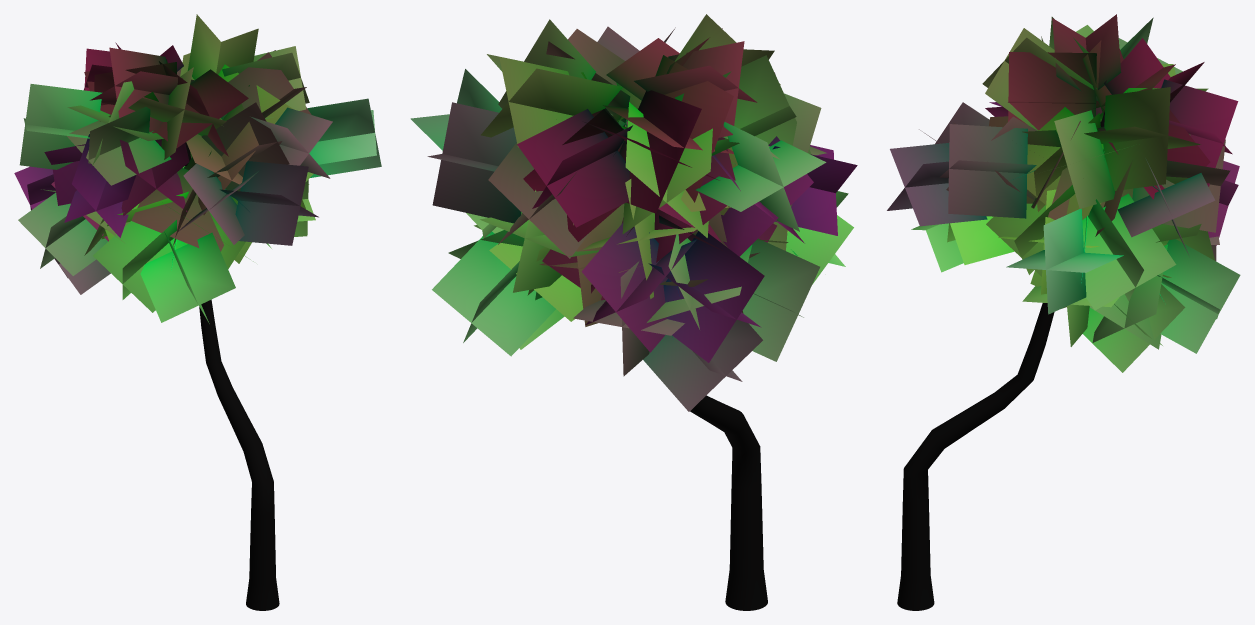
File: M_P7_Tree_11.fbx
3 views of the same model, side by side, from view 1: azimuth 30°, elevation 25°; view 2: azimuth 150°, elevation 25°; view 3: azimuth 270°, elevation 25° (orthographic). The views are drawn at different scales.
Visible parts, largest first — view 1: Tree_11; view 2: Tree_11; view 3: Tree_11.
Boxes of the visible parts, x1,y1,x2,y2 form: Tree_11: (14, 14, 381, 610); Tree_11: (410, 14, 857, 610); Tree_11: (887, 14, 1240, 610).
Size of the model in its own units: 277 by 396 by 229.
